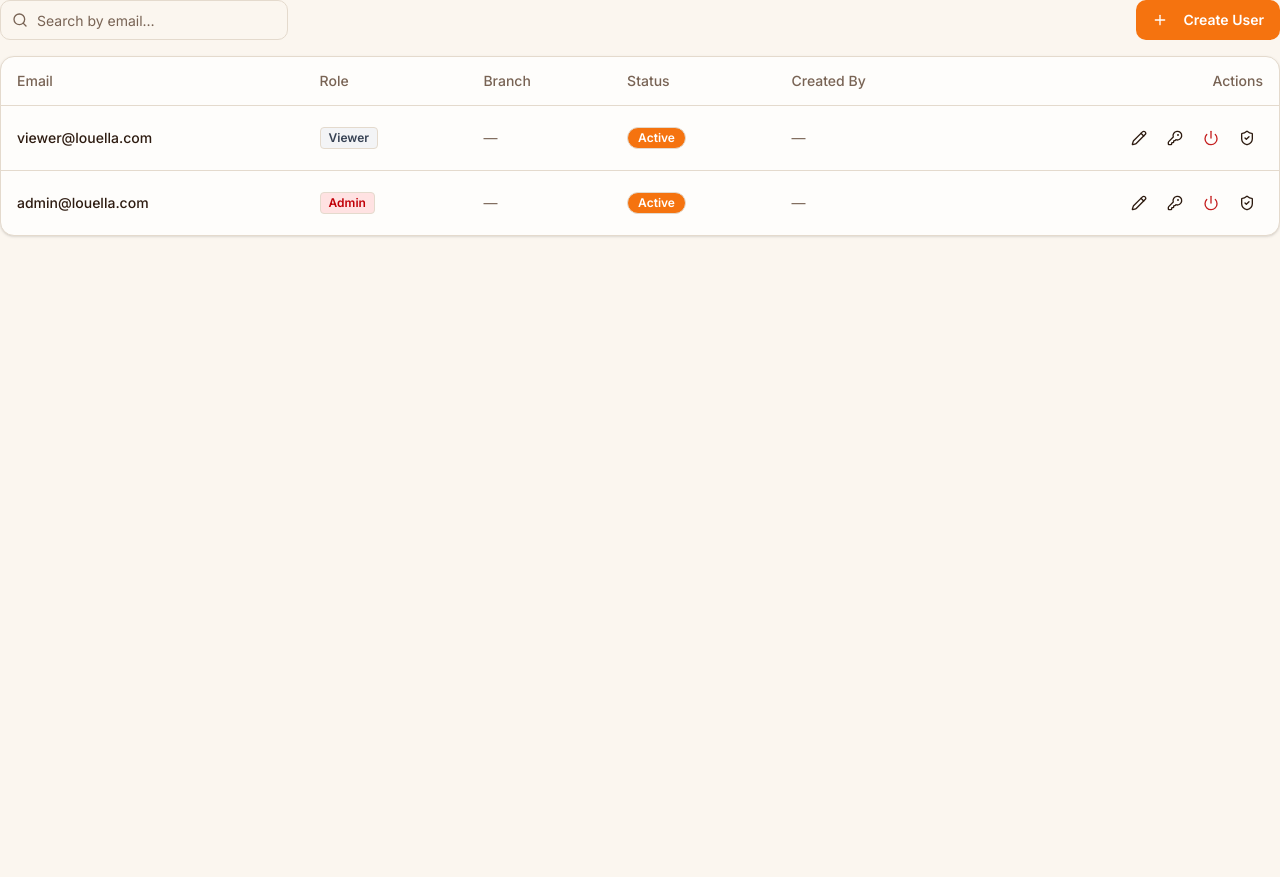
Test: Users screen — per-user permission drawer › loads that account and explains what overrides do
Expected: the text "viewer@louella.com" is shown, [1, 105, 304, 170]
Click the 5th button. click: (1247, 138)
box: [1231, 122, 1263, 154]
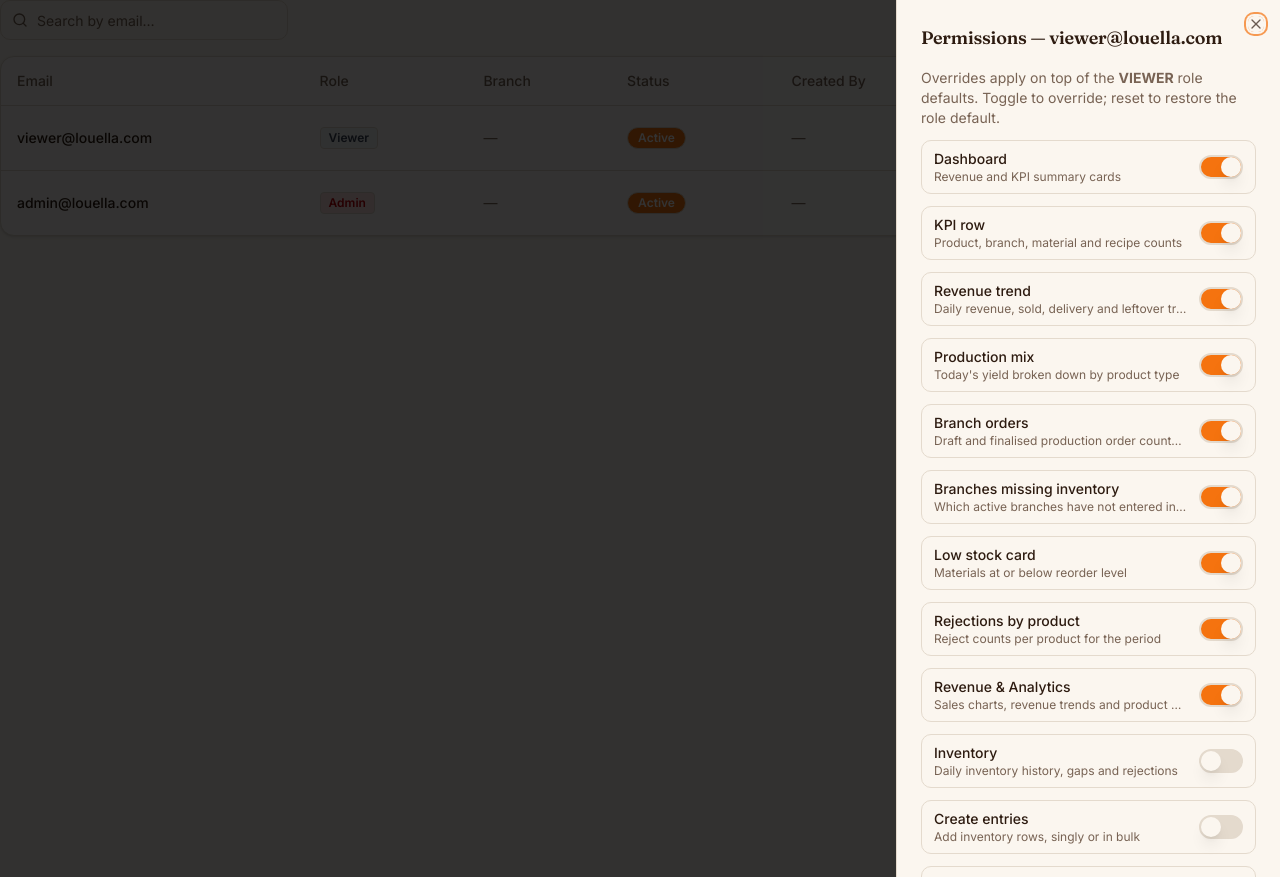
Now the text "Overrides apply on top of the" is shown, box [921, 69, 1118, 86]
